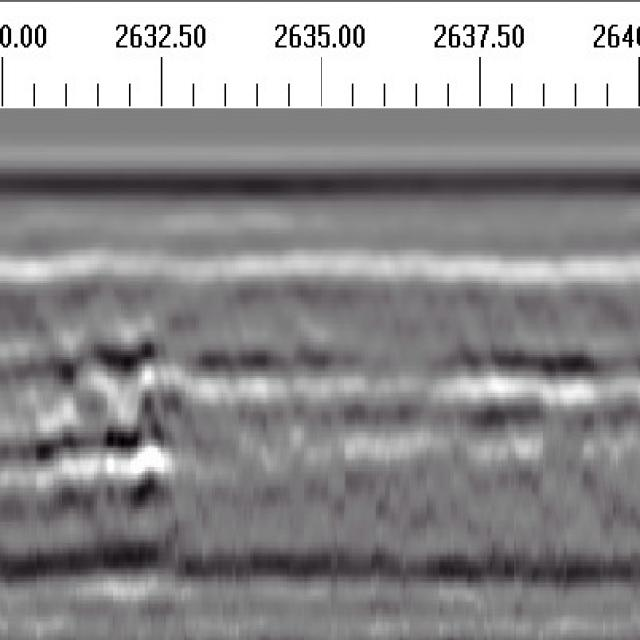loose: (22, 322, 173, 481), (436, 326, 628, 451)
